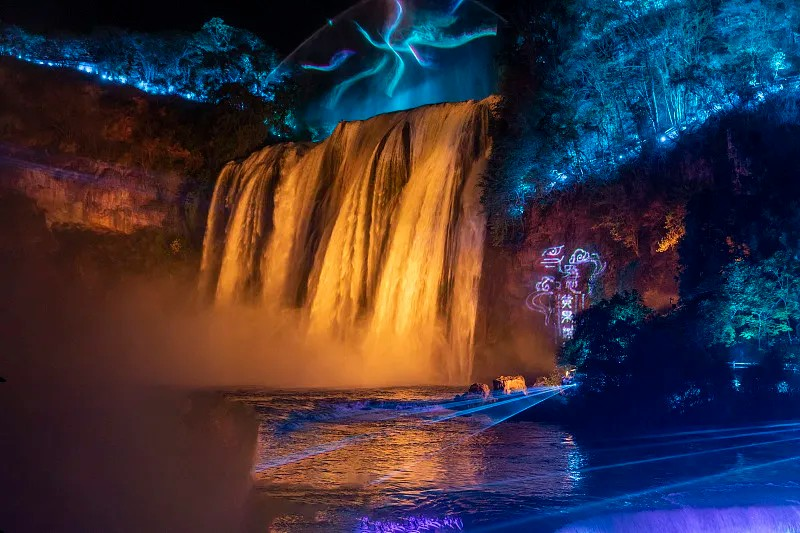Huangguoshu: (199, 95, 497, 387)
